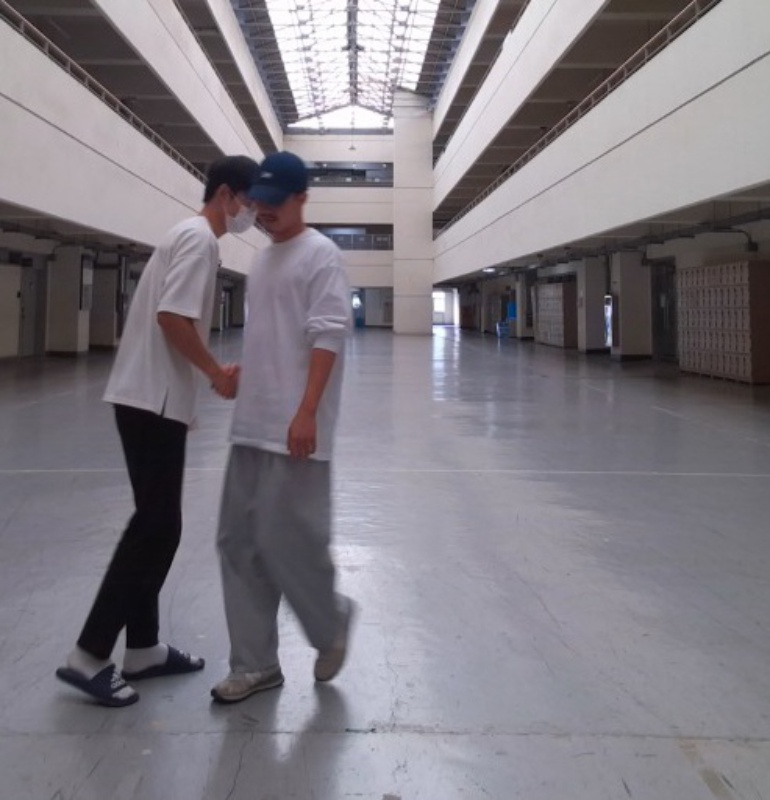person: (210, 149, 357, 703)
